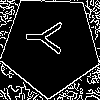Y: (25, 20, 71, 56)
